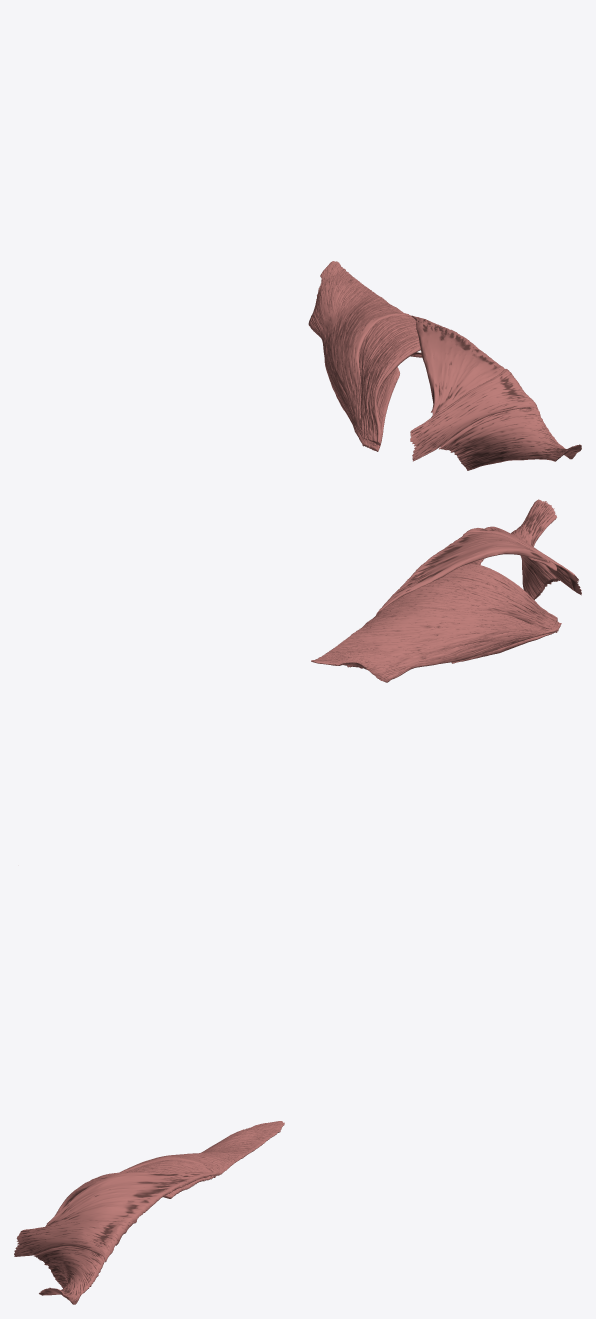
File: backmuscles.870727814f.glb
The picture shows the model from 3 angles, top to bottom: view 1: azimuth 30°, elevation 25°; view 2: azimuth 150°, elevation 25°; view 3: azimuth 330°, elevation 25°; orthographic projection. The views are drawn at different scales.
Visible parts, largest first — view 1: FMA13358, FMA33586, FMA33581, FMA33584; view 2: FMA13358, FMA33581, FMA33586, FMA33584; view 3: FMA33581, FMA13358, FMA33584, FMA33586.
Boxes of the visible parts, x1,y1,x2,y2 form: FMA13358: [308, 261, 420, 451]; FMA33586: [439, 407, 581, 470]; FMA33581: [411, 315, 504, 417]; FMA33584: [410, 369, 537, 461]; FMA13358: [311, 563, 561, 682]; FMA33581: [376, 532, 556, 614]; FMA33586: [510, 499, 559, 599]; FMA33584: [463, 526, 581, 595]; FMA33581: [45, 1172, 219, 1226]; FMA13358: [55, 1121, 284, 1215]; FMA33584: [14, 1220, 132, 1262]; FMA33586: [34, 1246, 105, 1304].
Size of the model in its own units: 183 by 126 by 1439.
